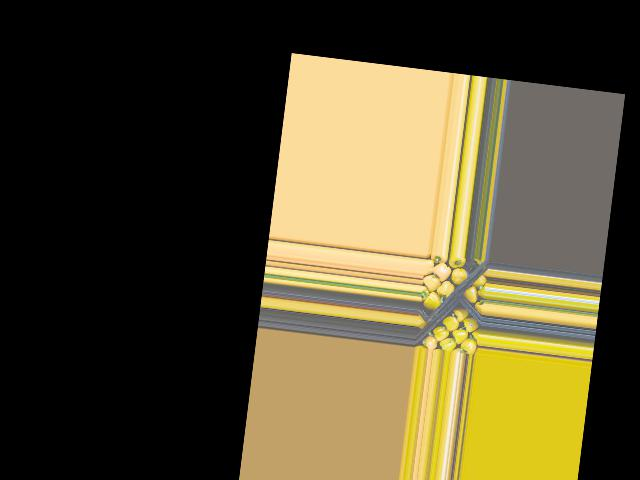bell_pepper: (461, 334, 480, 355)
